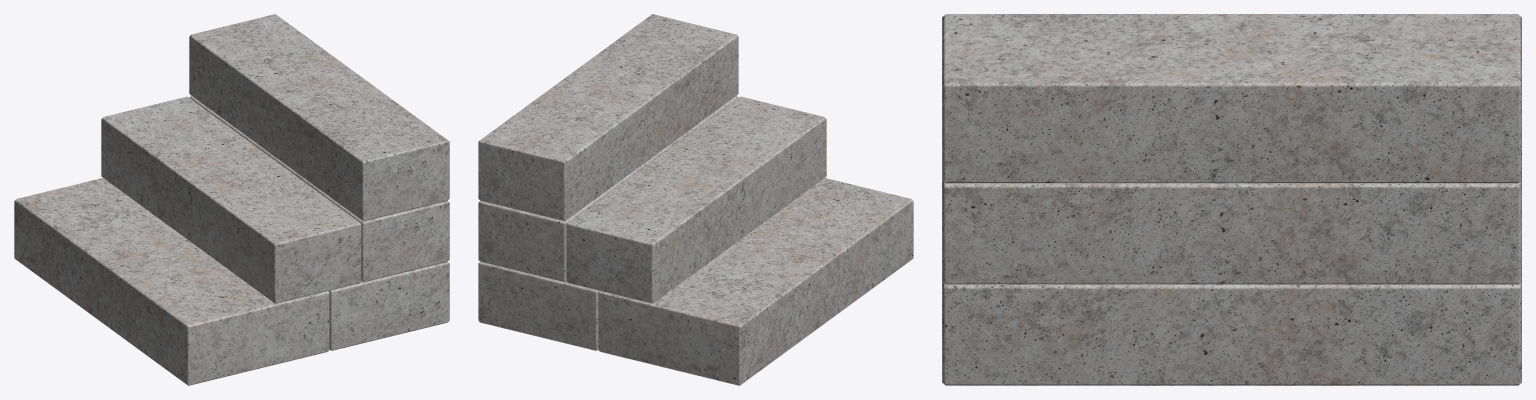
The model's file is SM_Stair01I.fbx.
3 renders of one model, left to right at view 1: azimuth 30°, elevation 25°; view 2: azimuth 150°, elevation 25°; view 3: azimuth 270°, elevation 25°, orthographic. The views are drawn at different scales.
Visible parts, largest first — view 1: SM_Stair01I; view 2: SM_Stair01I; view 3: SM_Stair01I.
Boxes of the visible parts, x1=… form: SM_Stair01I: x1=14, y1=14, x2=449, y2=385; SM_Stair01I: x1=478, y1=14, x2=913, y2=385; SM_Stair01I: x1=942, y1=14, x2=1521, y2=385.
Bounding box in the file's own units: 108 × 123 × 71.37.
